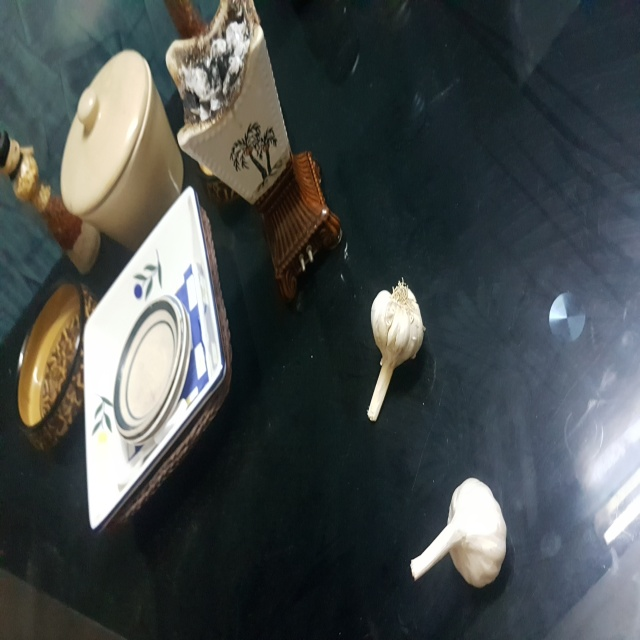garlic: (400, 471, 509, 588), (355, 275, 429, 431)
